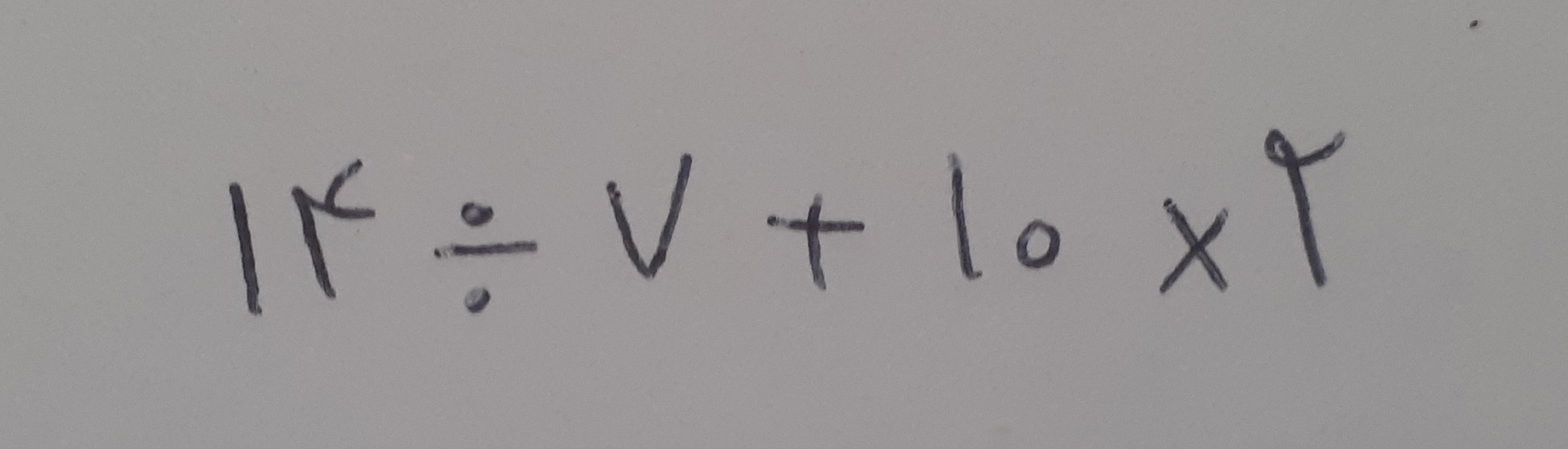character: (1263, 128, 1346, 286), (292, 158, 377, 299), (434, 202, 538, 313), (606, 154, 693, 280), (767, 193, 865, 290), (1159, 199, 1228, 293), (226, 180, 264, 317), (947, 153, 982, 280), (1017, 219, 1060, 268)
